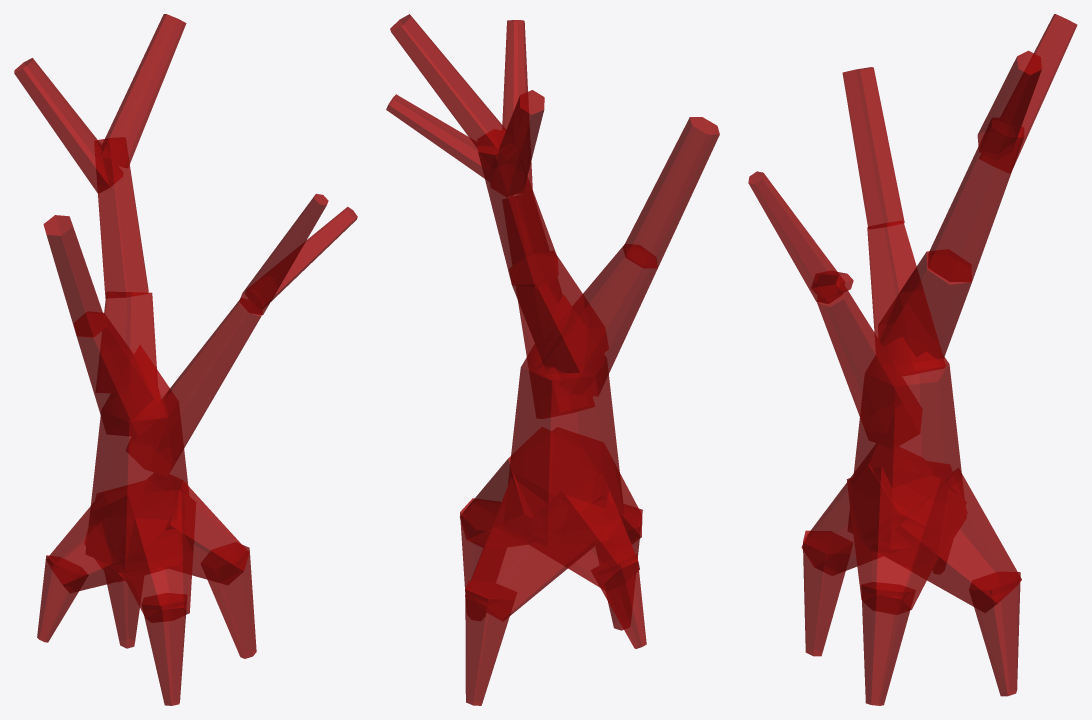
Rendered from SM_Env_Tree_Fruit_02_Collision.fbx.
The picture shows the model from 3 angles, left to right: view 1: azimuth 30°, elevation 25°; view 2: azimuth 150°, elevation 25°; view 3: azimuth 270°, elevation 25°; orthographic projection. The views are drawn at different scales.
Parts seen in each view (by area): view 1: SM_Env_Tree_Fruit_02_Collision; view 2: SM_Env_Tree_Fruit_02_Collision; view 3: SM_Env_Tree_Fruit_02_Collision.
Part boxes in pixels (<box>): SM_Env_Tree_Fruit_02_Collision: <box>14,14,357,705</box>; SM_Env_Tree_Fruit_02_Collision: <box>386,14,719,705</box>; SM_Env_Tree_Fruit_02_Collision: <box>748,14,1077,705</box>.
Size of the model in its own units: 162 by 311 by 139.
